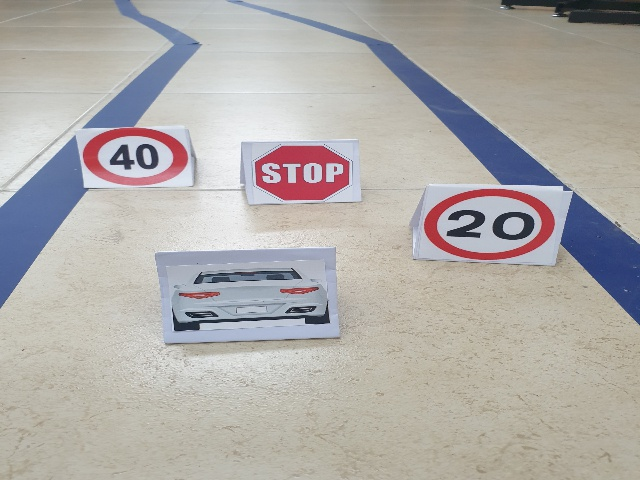Car: (172, 267, 330, 329)
Limit 20: (425, 190, 555, 261)
Limit 40: (83, 128, 189, 185)
Stop: (251, 145, 354, 201)
